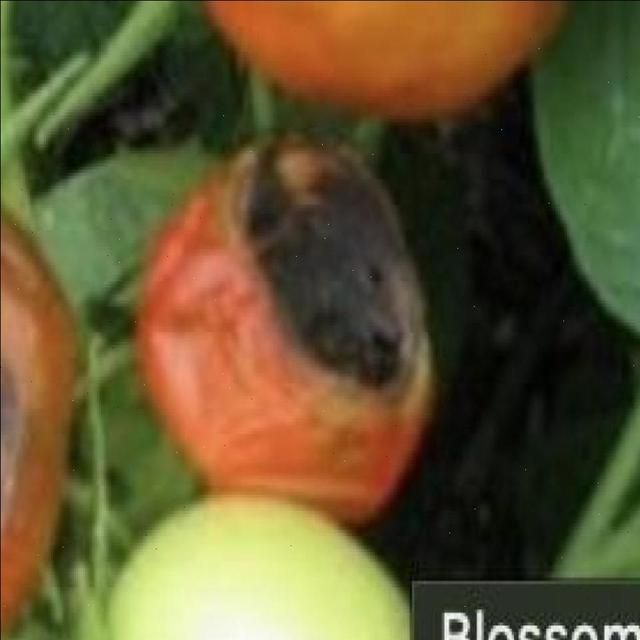Blossom End Rot Fruit: (8, 107, 221, 283)
